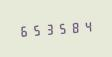eight: (70, 19, 82, 35)
five: (57, 19, 69, 36), (30, 21, 42, 37)
four: (83, 18, 95, 34)
six: (17, 22, 29, 38)
three: (44, 20, 56, 36)
